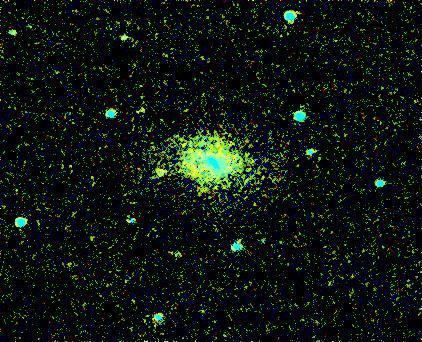star: (145, 150, 175, 180)
